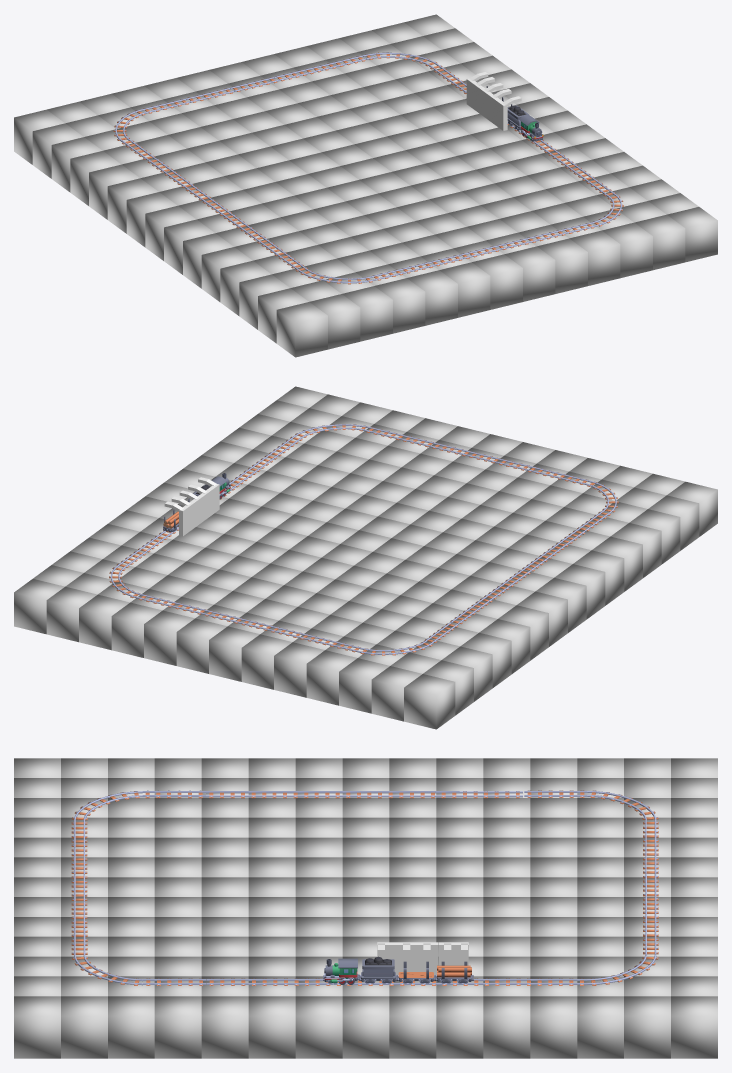
File: loco_world.glb
The picture shows the model from 3 angles, top to bottom: view 1: azimuth 30°, elevation 25°; view 2: azimuth 150°, elevation 25°; view 3: azimuth 270°, elevation 25°; orthographic projection. The views are drawn at different scales.
Parts seen in each view (by area): view 1: floor, floor.0.3, floor.0.7, floor.0.8, floor.0.2, floor.0.4, floor.0.9, floor.0.1, floor.0.5, floor.0.6, floor.0.11, floor.0.12 (+141 smaller); view 2: floor.14.0, floor.14.3, floor.14.7, floor.14.8, floor.14.2, floor.14.4, floor.14.9, floor.14.1, floor.14.5, floor.14.6, floor.14.11, floor.14.12 (+142 smaller); view 3: floor.3.12, floor.4.12, floor.5.12, floor.6.12, floor.7.12, floor.8.12, floor.9.12, floor.10.12, floor.11.12, floor.0.12, floor.1.12, floor.2.12 (+188 smaller).
Boxes of the visible parts, <box> form: floor: <box>276,302,327,357</box>; floor.0.3: <box>374,278,425,333</box>; floor.0.7: <box>504,246,555,301</box>; floor.0.8: <box>537,238,587,293</box>; floor.0.2: <box>342,286,392,341</box>; floor.0.4: <box>407,270,457,325</box>; floor.0.9: <box>569,230,620,285</box>; floor.0.1: <box>309,294,360,349</box>; floor.0.5: <box>439,262,490,317</box>; floor.0.6: <box>472,254,522,309</box>; floor.0.11: <box>634,214,685,270</box>; floor.0.12: <box>667,207,717,262</box>; floor.14.0: <box>404,674,455,729</box>; floor.14.3: <box>306,650,357,705</box>; floor.14.7: <box>176,618,227,673</box>; floor.14.8: <box>144,610,194,665</box>; floor.14.2: <box>339,658,389,713</box>; floor.14.4: <box>274,642,324,697</box>; floor.14.9: <box>111,602,162,657</box>; floor.14.1: <box>371,666,422,721</box>; floor.14.5: <box>241,634,292,689</box>; floor.14.6: <box>209,626,259,681</box>; floor.14.11: <box>46,586,97,642</box>; floor.14.12: <box>14,579,64,634</box>; floor.3.12: <box>154,996,201,1058</box>; floor.4.12: <box>201,996,248,1058</box>; floor.5.12: <box>248,996,295,1058</box>; floor.6.12: <box>295,996,342,1058</box>; floor.7.12: <box>342,996,389,1058</box>; floor.8.12: <box>389,996,436,1058</box>; floor.9.12: <box>436,996,483,1058</box>; floor.10.12: <box>483,996,530,1058</box>; floor.11.12: <box>530,996,577,1058</box>; floor.0.12: <box>14,996,60,1058</box>; floor.1.12: <box>61,996,107,1058</box>; floor.2.12: <box>108,996,154,1058</box>.
Size of the model in its own units: 104 by 14.61 by 120.
9 materials, 6 textured.
